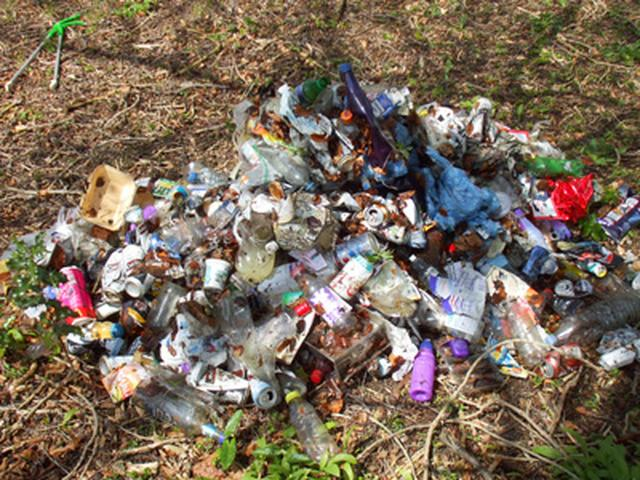garbage: (260, 110, 561, 352), (80, 190, 273, 382)
